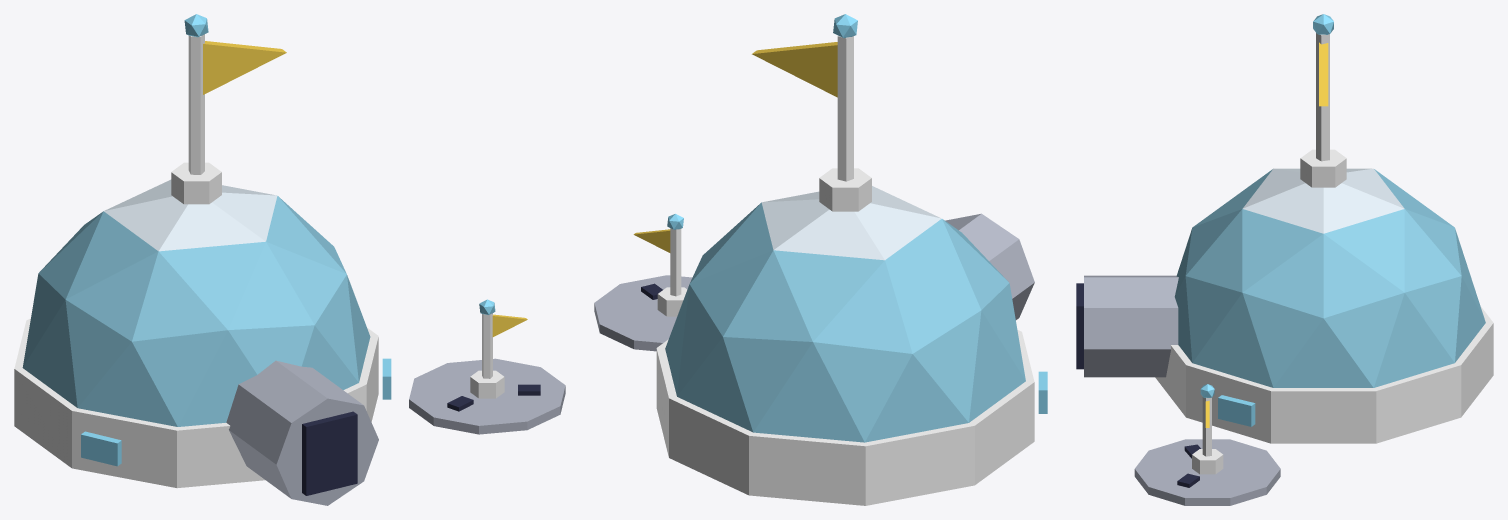
File: space-landmark-s2.glb
3 views of the same model, side by side, from view 1: azimuth 30°, elevation 25°; view 2: azimuth 150°, elevation 25°; view 3: azimuth 270°, elevation 25° (orthographic). The views are drawn at different scales.
Visible parts, largest first — view 1: space-landmark-s2; view 2: space-landmark-s2; view 3: space-landmark-s2.
Part boxes in pixels (x1,y1,x2,y2): space-landmark-s2: [14, 14, 565, 505]; space-landmark-s2: [594, 14, 1047, 505]; space-landmark-s2: [1076, 14, 1493, 505].
Bounding box in the file's own units: 1.22 × 1.03 × 1.08.
